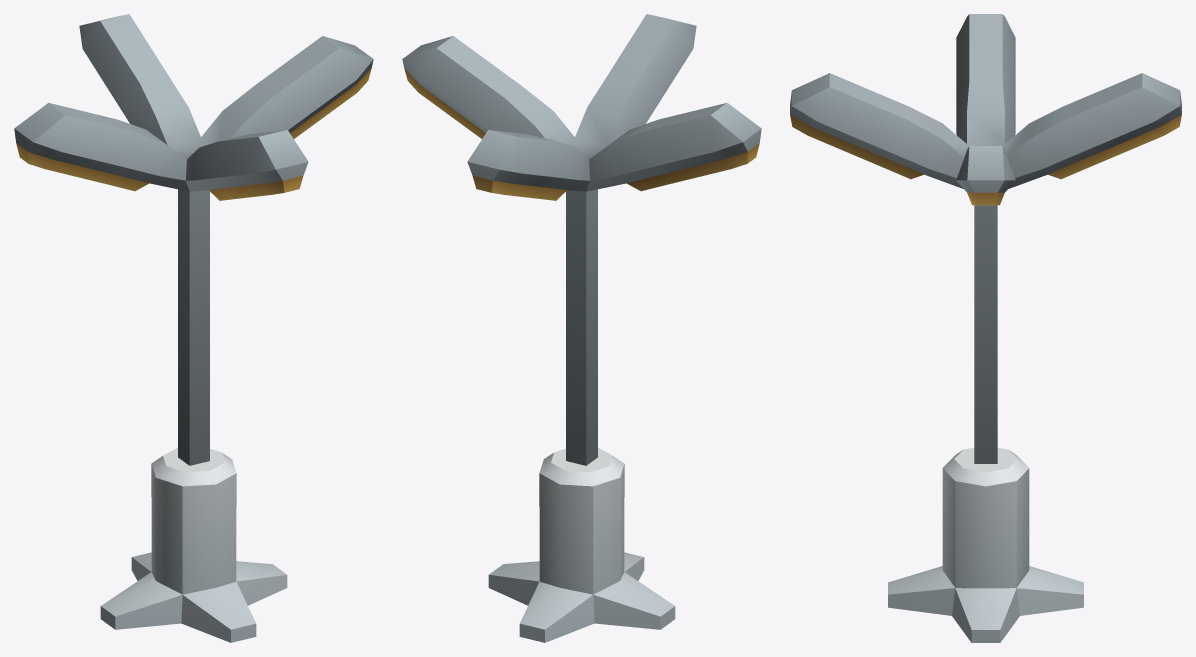
Rendered from lights.glb.
3 views of the same model, side by side, from view 1: azimuth 30°, elevation 25°; view 2: azimuth 150°, elevation 25°; view 3: azimuth 270°, elevation 25° (orthographic).
Parts seen in each view (by area): view 1: lights; view 2: lights; view 3: lights.
Part boxes in pixels (x1,y1,x2,y2): lights: (14, 14, 373, 642); lights: (402, 14, 761, 642); lights: (790, 14, 1181, 642).
Bounding box in the file's own units: 2.04 × 3 × 2.04.
1 material, 1 textured.
